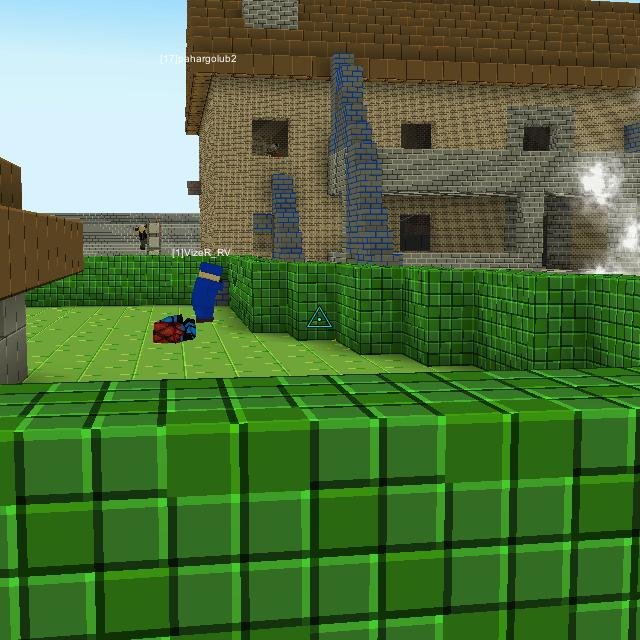enemy: (266, 142, 282, 156)
